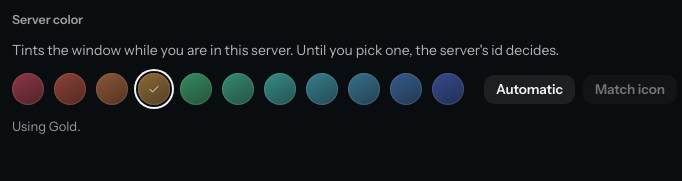
Test: ServerColorField › keeps the old pick and says why when the server refuses it
The width and height of the screenshot is (682, 181).
Click the button named "Cobalt": (448,89) [432,73,464,105]
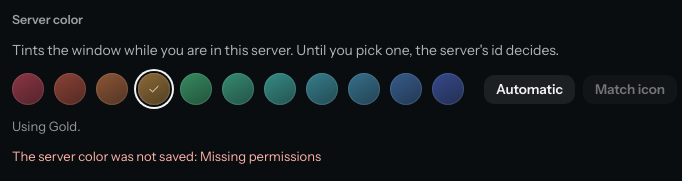
Now the message shows "The server color was not saved", box [12,148,321,164]
